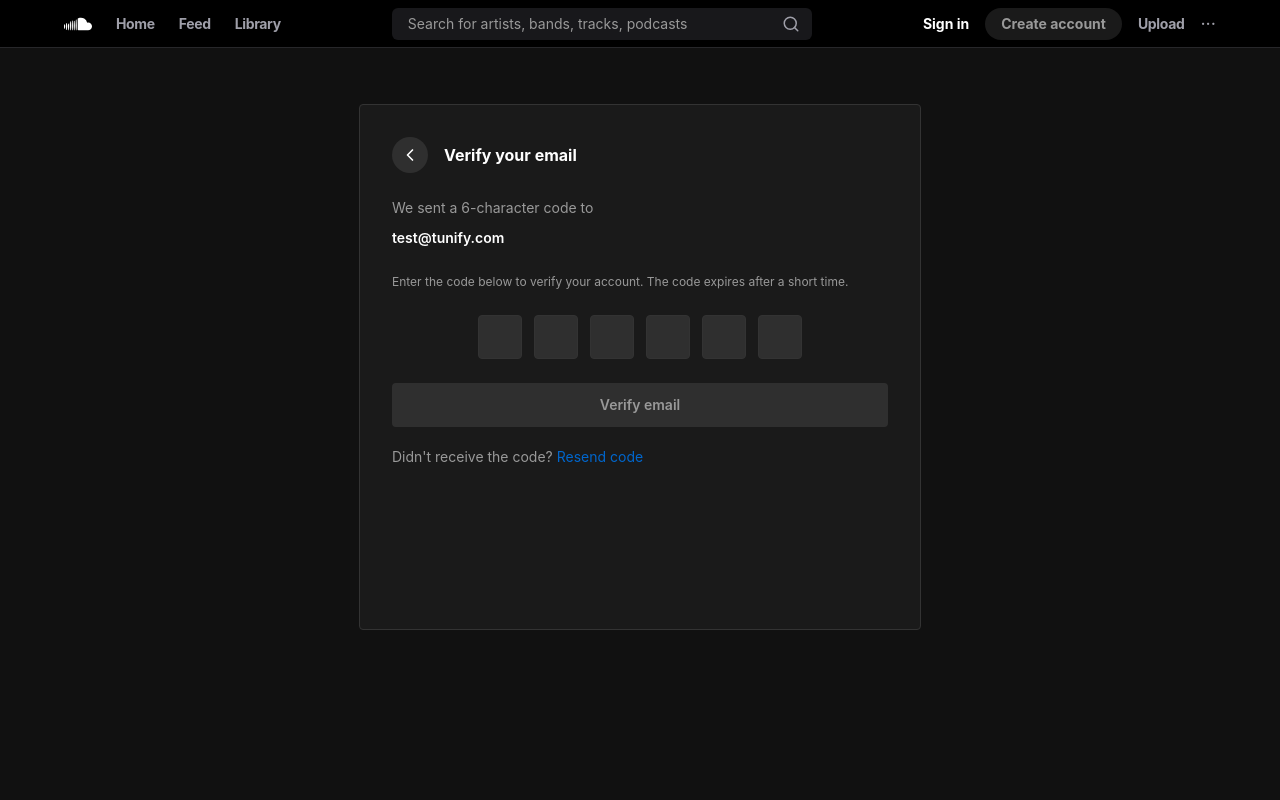
VerifyEmailPage — code input behavior › Verify button becomes enabled when all 6 boxes are filled
Type "A" into the 2nd field at x=500, y=337, box [478,315,522,359]
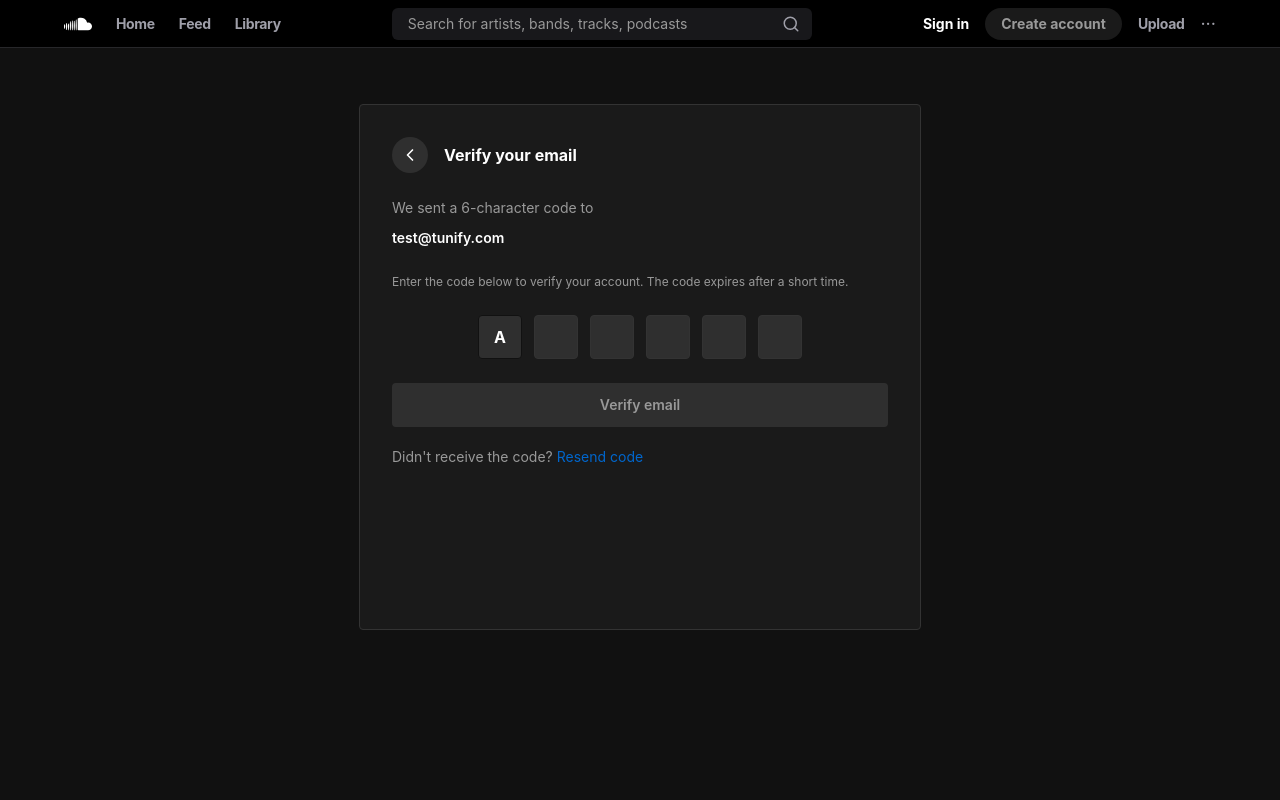
Type "B" into the 3rd field at x=556, y=337, box [534,315,578,359]
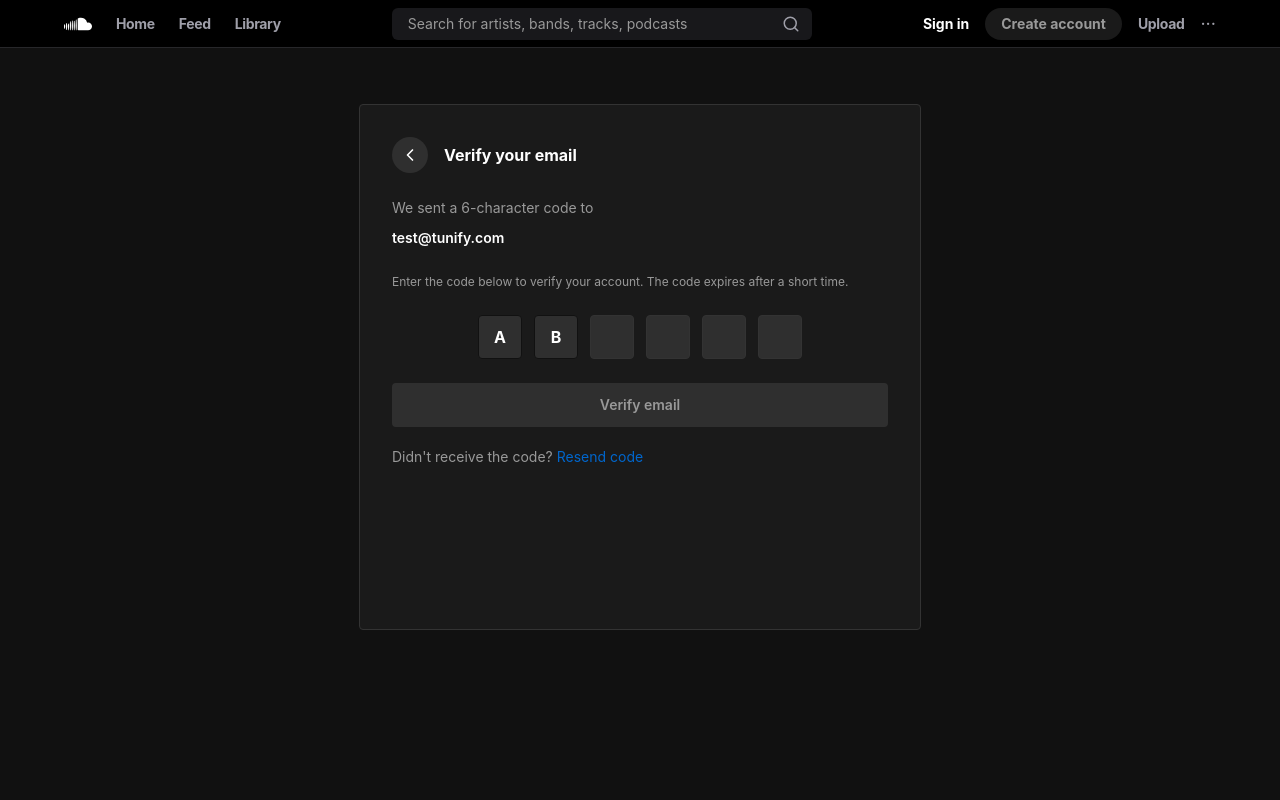
Type "C" into the 4th field at x=612, y=337, box [590,315,634,359]
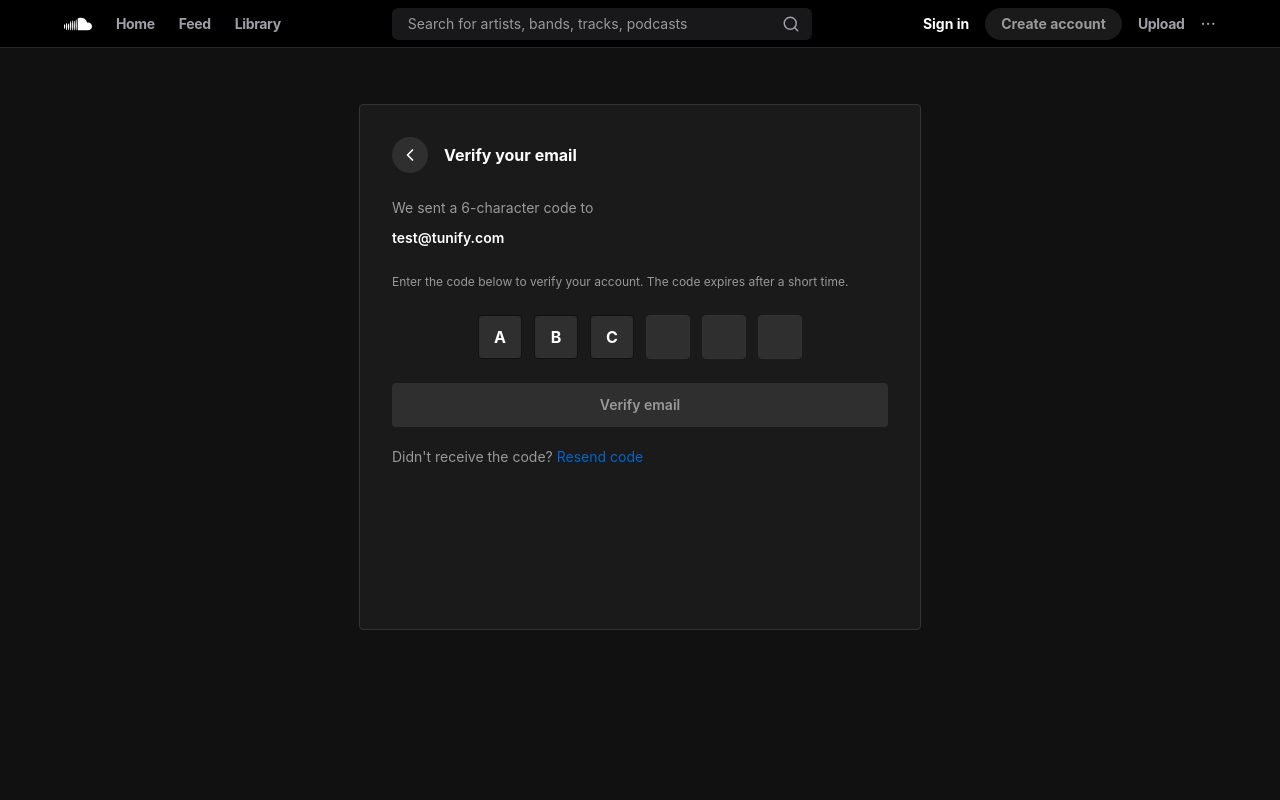
Type "1" into the 5th field at x=668, y=337, box [646,315,690,359]
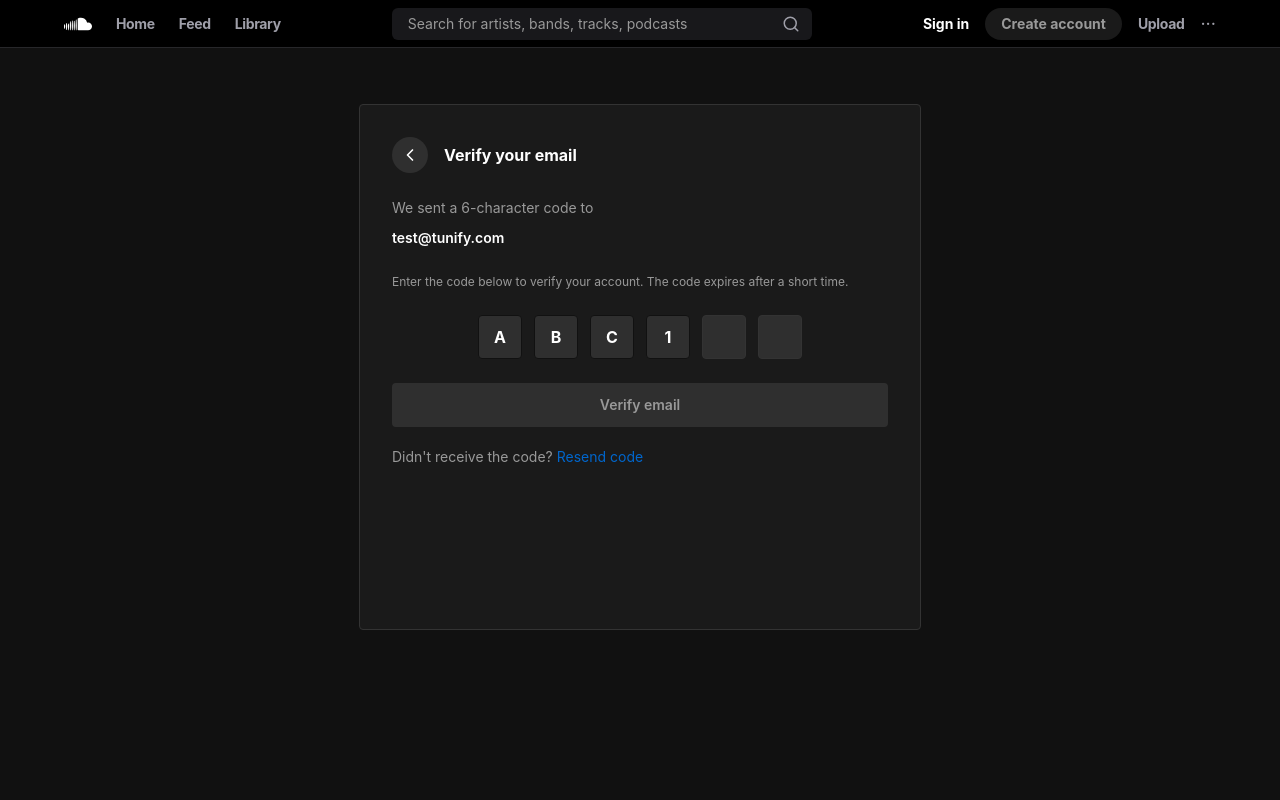
Type "2" into the 6th field at x=724, y=337, box [702,315,746,359]
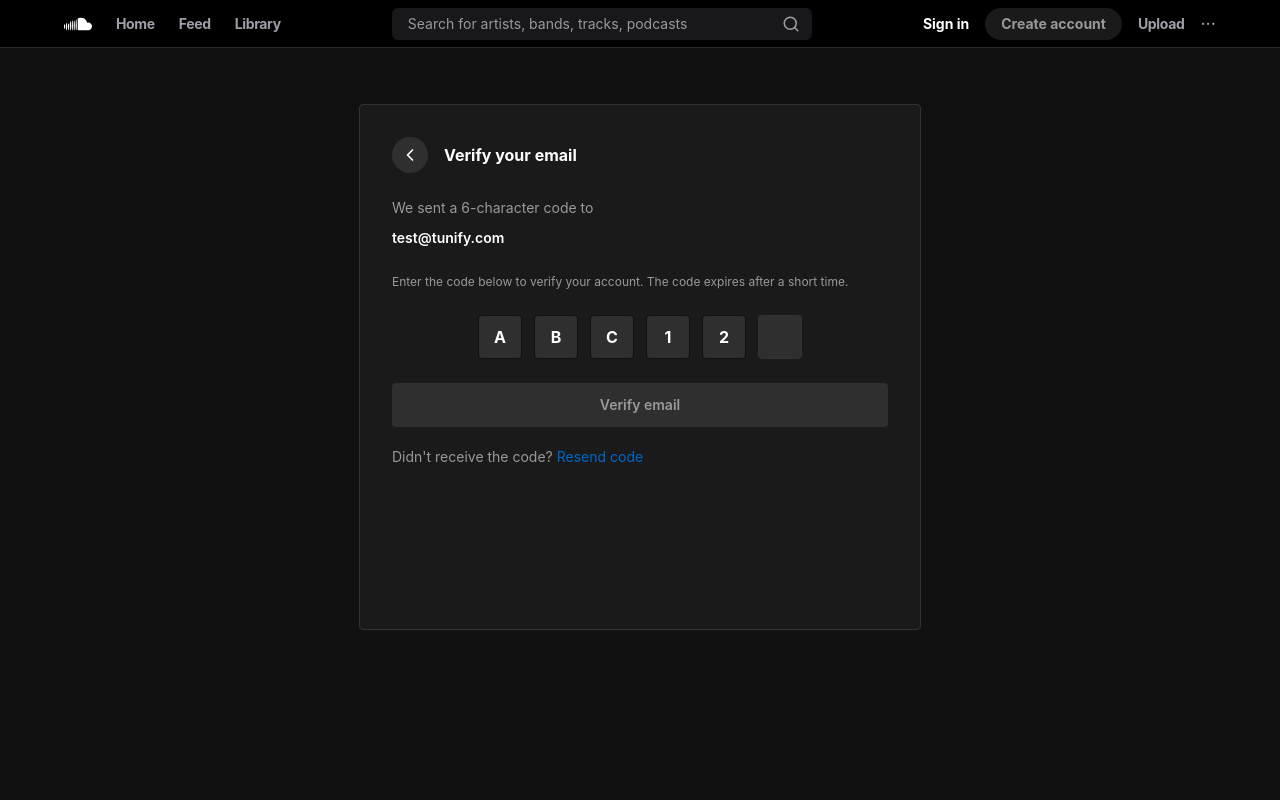
Type "3" into the 7th field at x=780, y=337, box [758,315,802,359]
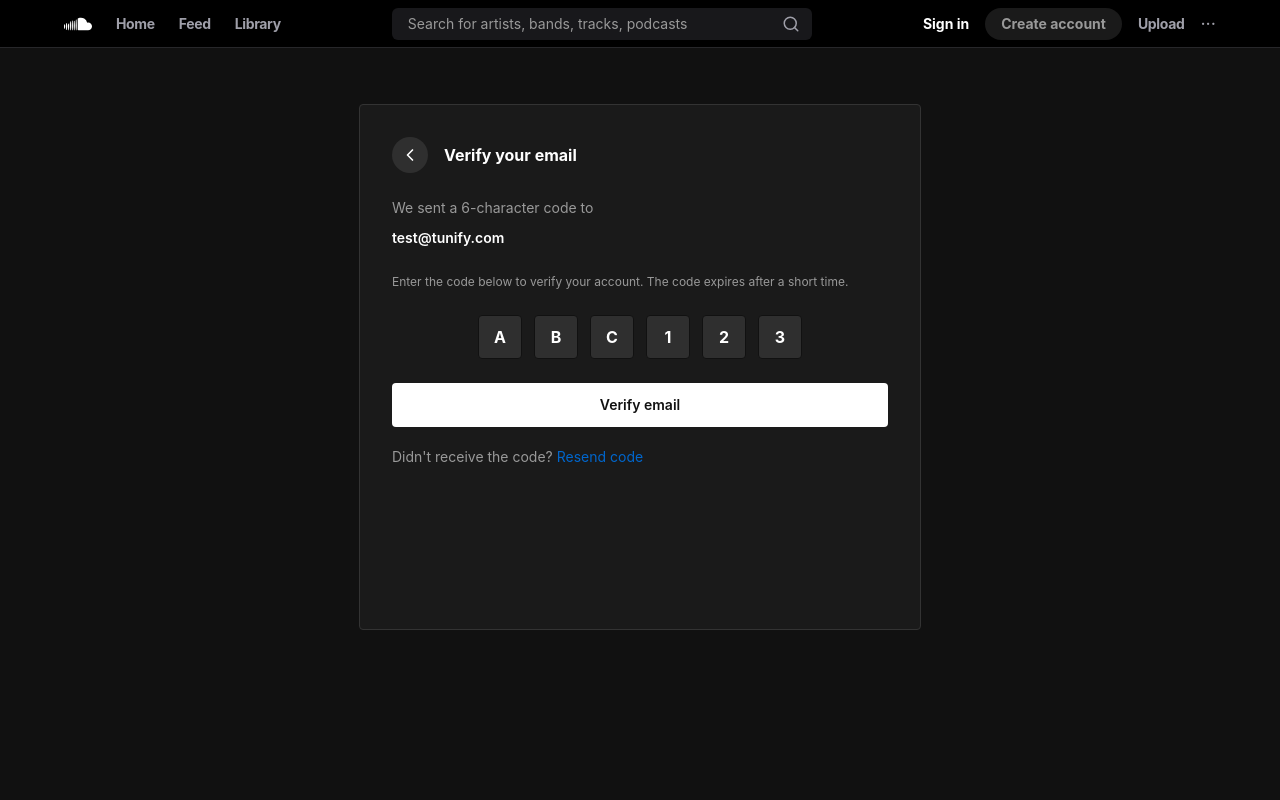
Check: the button "Verify email" is enabled, box [392,383,888,427]
